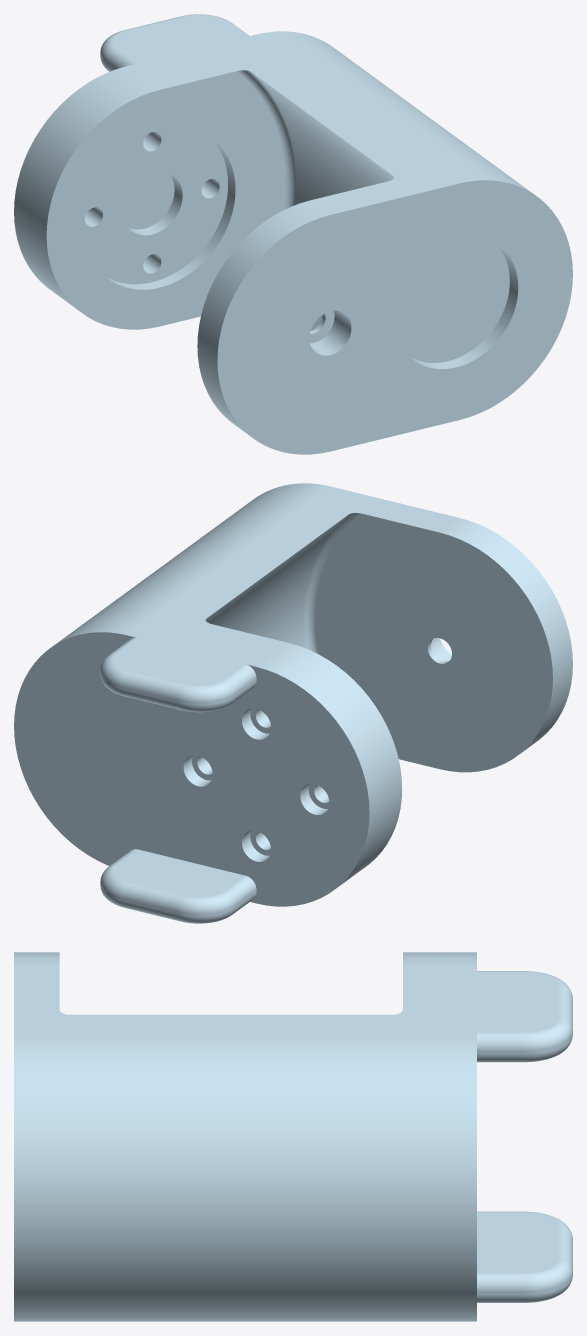
The model's file is _MjBLMIiEhsJtWdrHk.gltf.
3 renders of one model, top to bottom at view 1: azimuth 30°, elevation 25°; view 2: azimuth 150°, elevation 25°; view 3: azimuth 270°, elevation 25°, orthographic. The views are drawn at different scales.
Visible parts, largest first — view 1: SnakeFront; view 2: SnakeFront; view 3: SnakeFront.
Part boxes in pixels (x1,y1,x2,y2): SnakeFront: [14, 14, 572, 454]; SnakeFront: [14, 483, 572, 923]; SnakeFront: [14, 952, 572, 1321].
Size of the model in its own units: 0.0487 by 0.031 by 0.0583.
